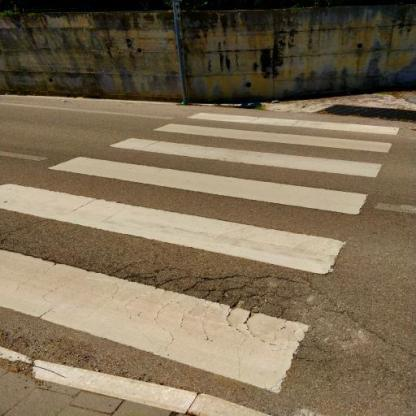crosswalk: (44, 133, 387, 227)
